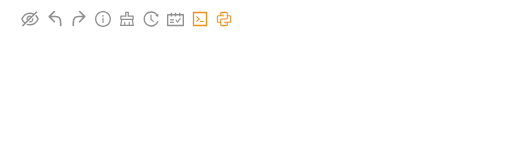
it: Header File List component › should show confirm popup when user clicks on clear chat history
What coordinates should you click on to do the following:
click the picture with test id "reset-chat-id"
I would click on:
 (127, 19)
Its box is [119,11,135,27].
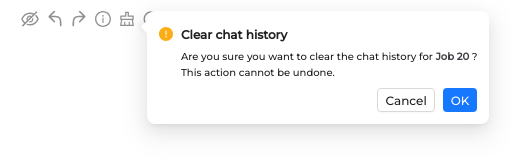
Now the text "Are you sure you want to clear the chat history for Job 20 ?" is shown, box [181,49,478,65]
Now the text "Job 20" is shown, box [436,50,469,63]
Now the text "This action cannot be undone." is shown, box [181,66,335,79]
